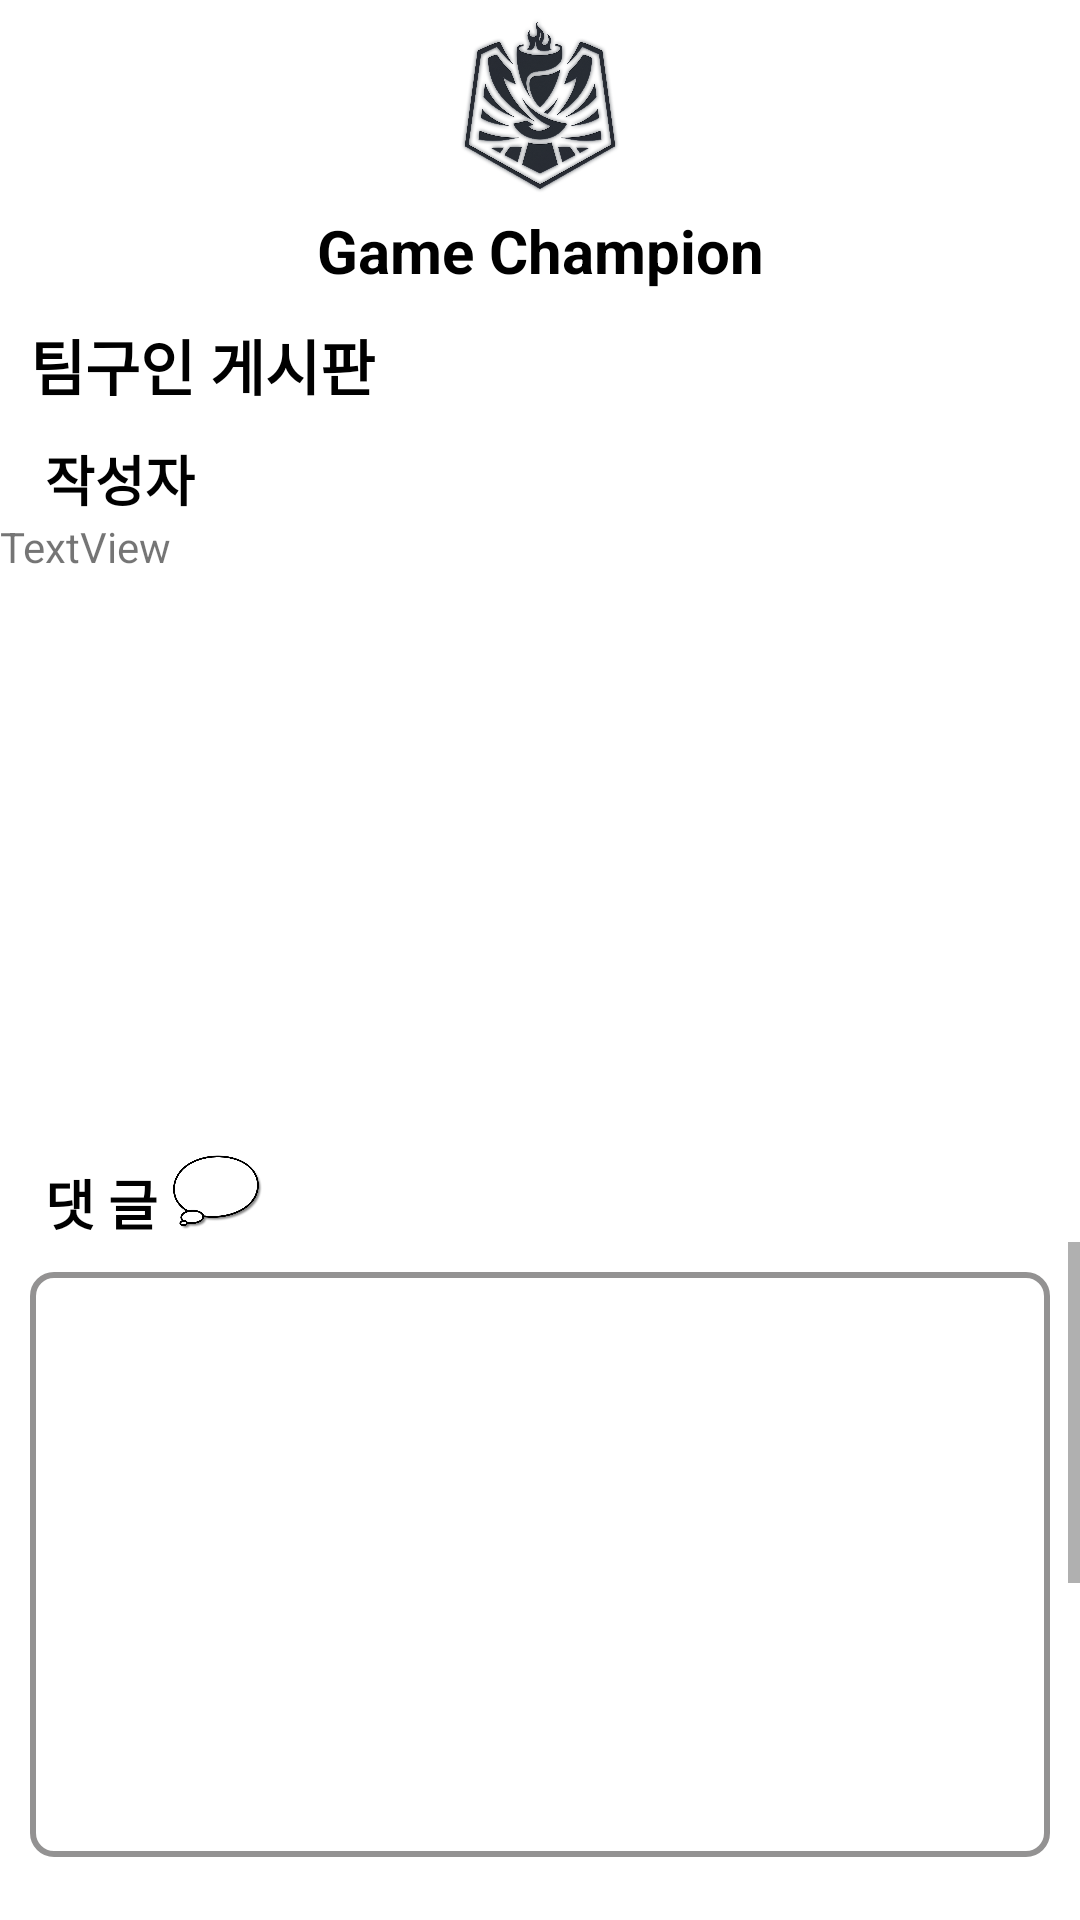

Icons on this 1080px×1920px Android screen, each with the point to tap as (x=x, y=y):
talkkk: (x=217, y=1191)
